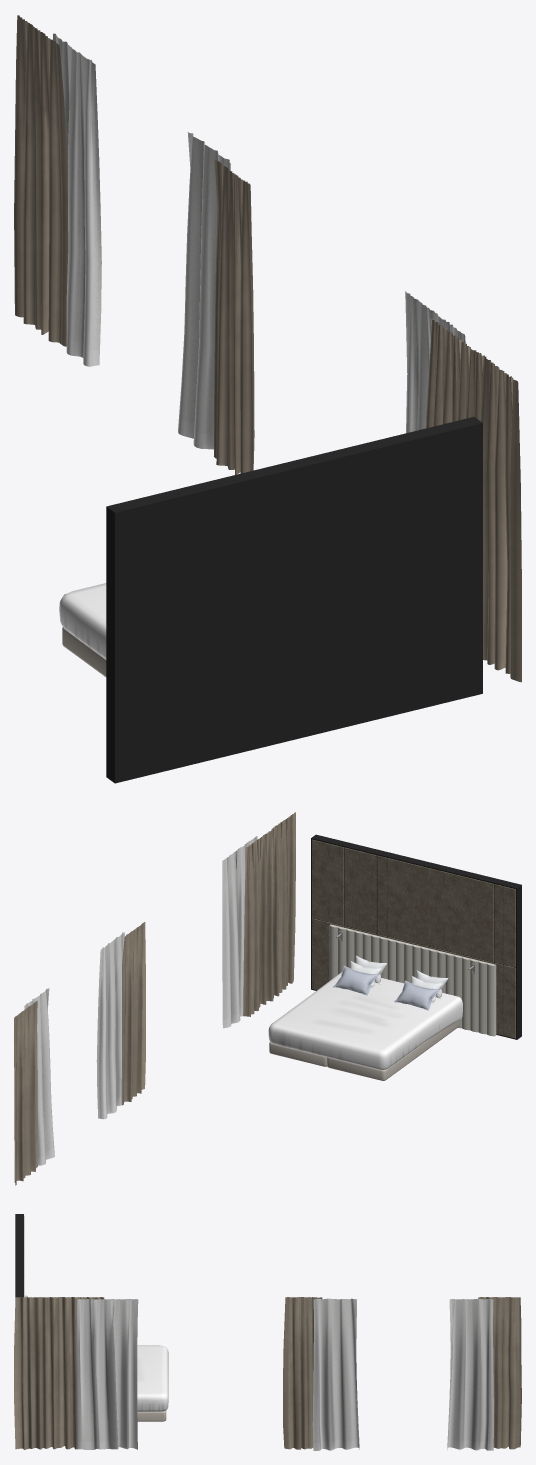
The model's file is Furniture.fbx.
3 renders of one model, top to bottom at view 1: azimuth 30°, elevation 25°; view 2: azimuth 150°, elevation 25°; view 3: azimuth 270°, elevation 25°, orthographic. The views are drawn at different scales.
Parts seen in each view (by area): view 1: WallBack_LP.001, Coklat3, Coklat1, Coklat2, White1.001, White1, Bed, White2; view 2: WallBack_LP.001, Bed, Coklat3, WhiteBehindBed, White1, Coklat1, Coklat2, White2, White1.001; view 3: Coklat3, White2, White1, White1.001, Coklat2, Coklat1, Bed, WallBack_LP.001.
Part boxes in pixels (x1=…): WallBack_LP.001: x1=106, y1=417, x2=482, y2=783; Coklat3: x1=426, y1=318, x2=521, y2=682; Coklat1: x1=14, y1=15, x2=68, y2=346; Coklat2: x1=214, y1=159, x2=254, y2=474; White1.001: x1=53, y1=33, x2=101, y2=366; White1: x1=178, y1=132, x2=230, y2=449; Bed: x1=59, y1=583, x2=106, y2=676; White2: x1=405, y1=291, x2=465, y2=433; WallBack_LP.001: x1=311, y1=834, x2=521, y2=1039; Bed: x1=268, y1=955, x2=462, y2=1080; Coklat3: x1=243, y1=812, x2=295, y2=1016; WhiteBehindBed: x1=329, y1=924, x2=496, y2=1036; White1: x1=96, y1=932, x2=124, y2=1119; Coklat1: x1=14, y1=1000, x2=37, y2=1185; Coklat2: x1=121, y1=922, x2=145, y2=1105; White2: x1=222, y1=836, x2=257, y2=1028; White1.001: x1=24, y1=988, x2=54, y2=1165; Coklat3: x1=14, y1=1297, x2=104, y2=1449; White2: x1=76, y1=1299, x2=138, y2=1449; White1: x1=312, y1=1298, x2=359, y2=1450; White1.001: x1=447, y1=1299, x2=493, y2=1450; Coklat2: x1=283, y1=1297, x2=322, y2=1449; Coklat1: x1=478, y1=1297, x2=521, y2=1449; Bed: x1=137, y1=1345, x2=168, y2=1421; WallBack_LP.001: x1=15, y1=1214, x2=24, y2=1297.
Size of the model in its own units: 3.78 by 2.62 by 7.87.
